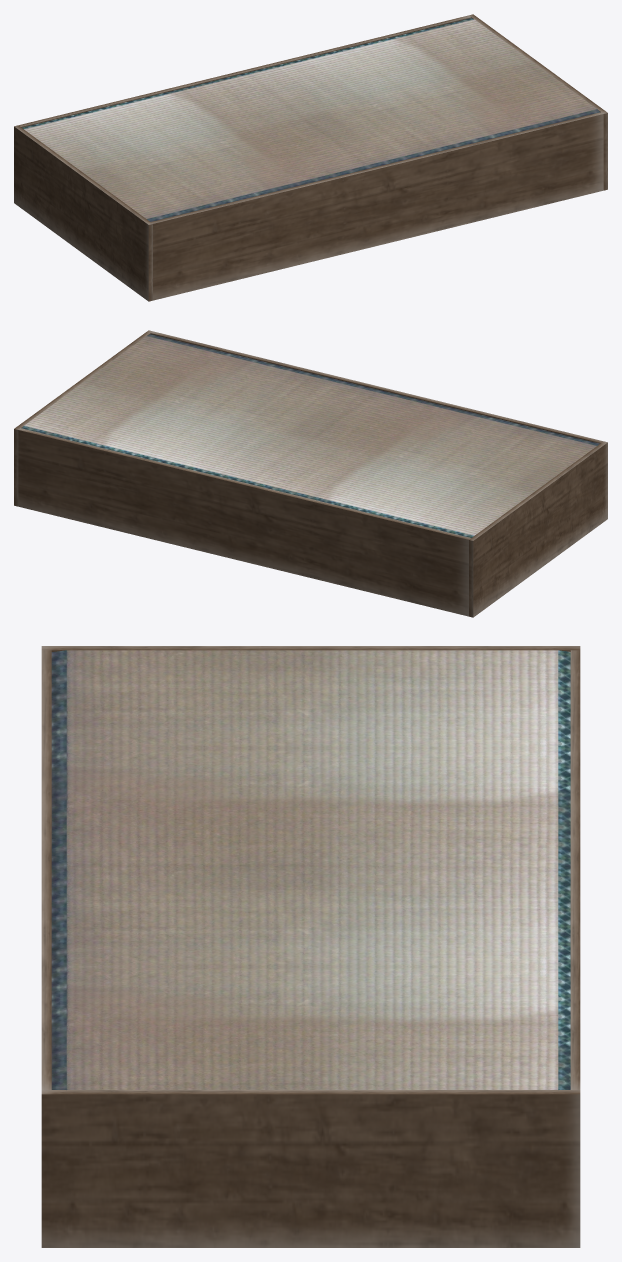
File: tatami01a.fbx
The picture shows the model from 3 angles, top to bottom: view 1: azimuth 30°, elevation 25°; view 2: azimuth 150°, elevation 25°; view 3: azimuth 270°, elevation 25°; orthographic projection. The views are drawn at different scales.
Parts seen in each view (by area): view 1: tatami01a; view 2: tatami01a; view 3: tatami01a.
Part boxes in pixels (x1,y1,x2,y2): tatami01a: (14,14,607,301); tatami01a: (14,330,607,617); tatami01a: (41,646,580,1247).
Size of the model in its own units: 211 by 33.63 by 107.
